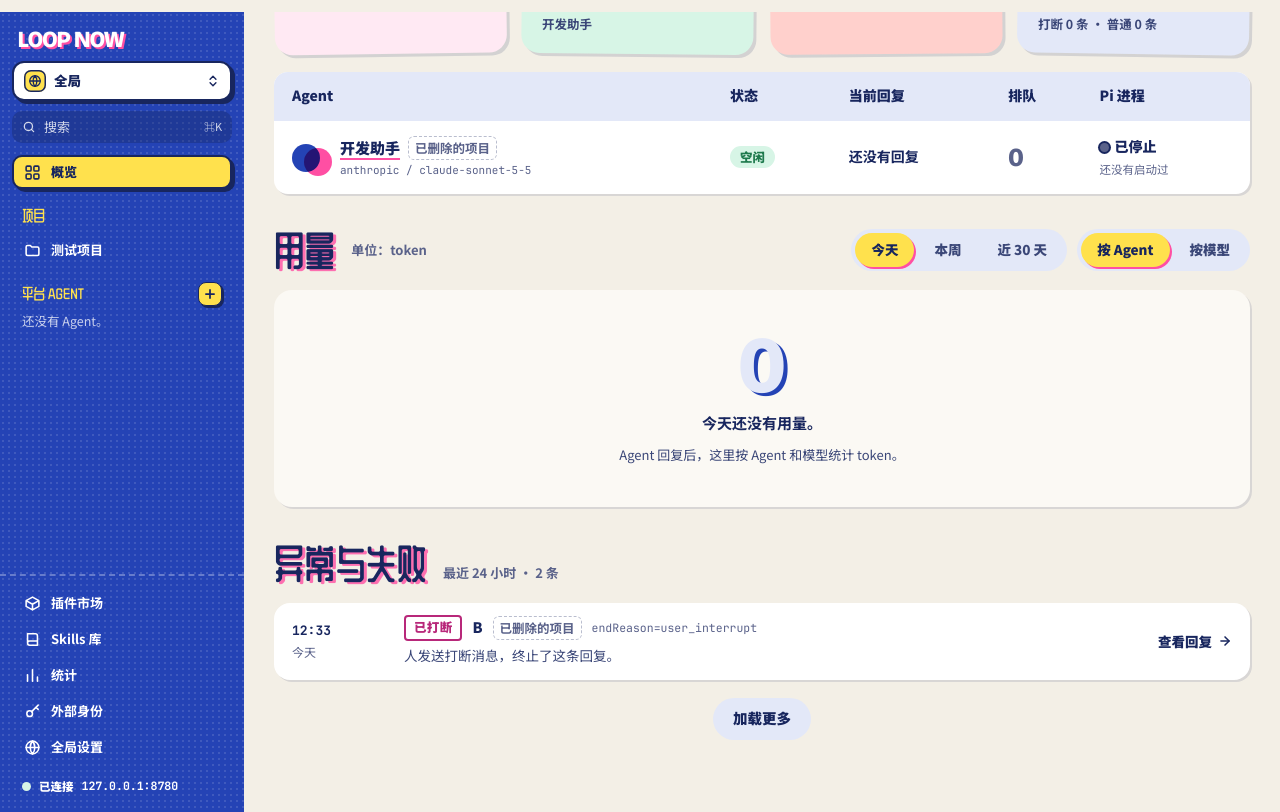
Test case: 异常与失败 › 以最近 24 小时为开始时间，显示总条数，从新到旧列出，可以加载更多
The image size is (1280, 812).
(page scrolled)
Expected: the text "最近 24 小时 · 2 条" is shown, [443,562,559,585]
Click the button "加载更多".
click(762, 719)  # box [713,698,811,740]
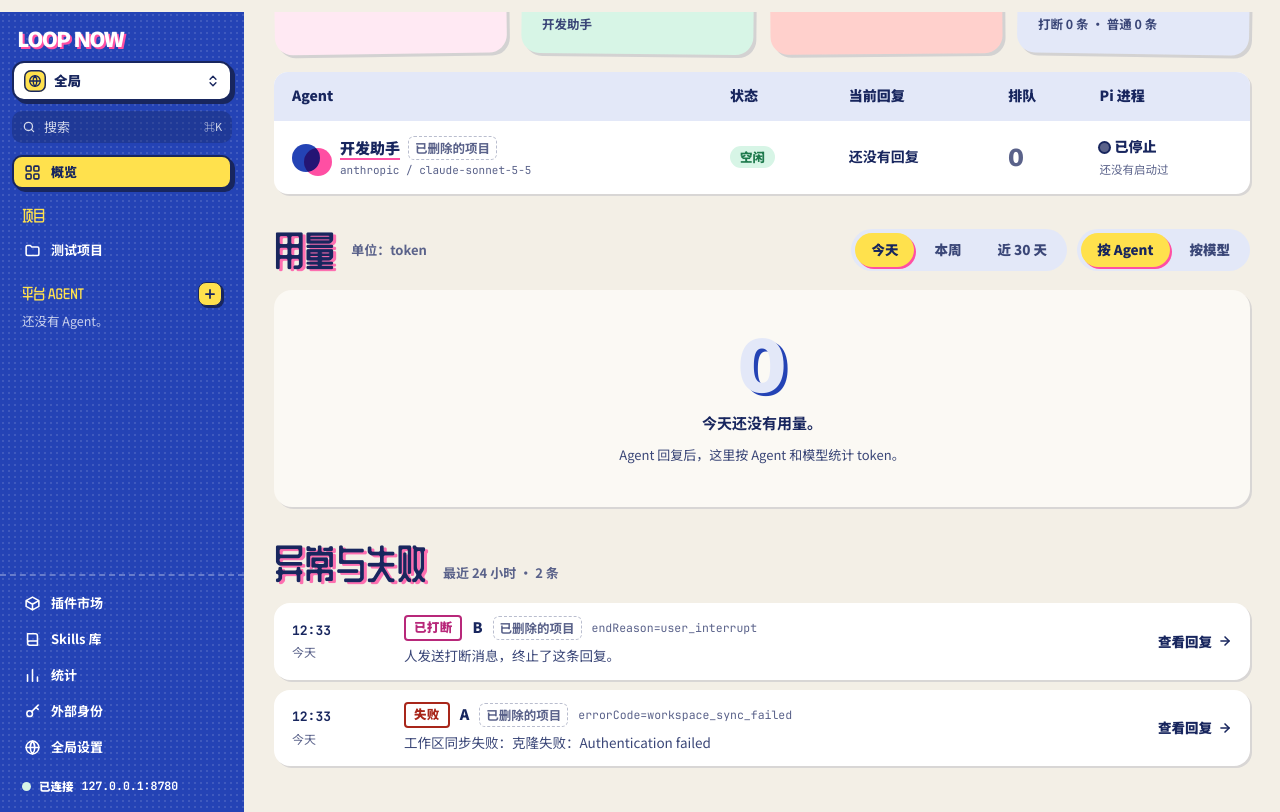
Expected: the link that starts with "已删除的项目" shows "errorCode=workspace_sync_failed", [274,690,1250,766]
Expected: the link that starts with "已删除的项目" shows "工作区同步失败：克隆失败：Authentication failed", [274,690,1250,766]
Expected: the button "加载更多" is gone
